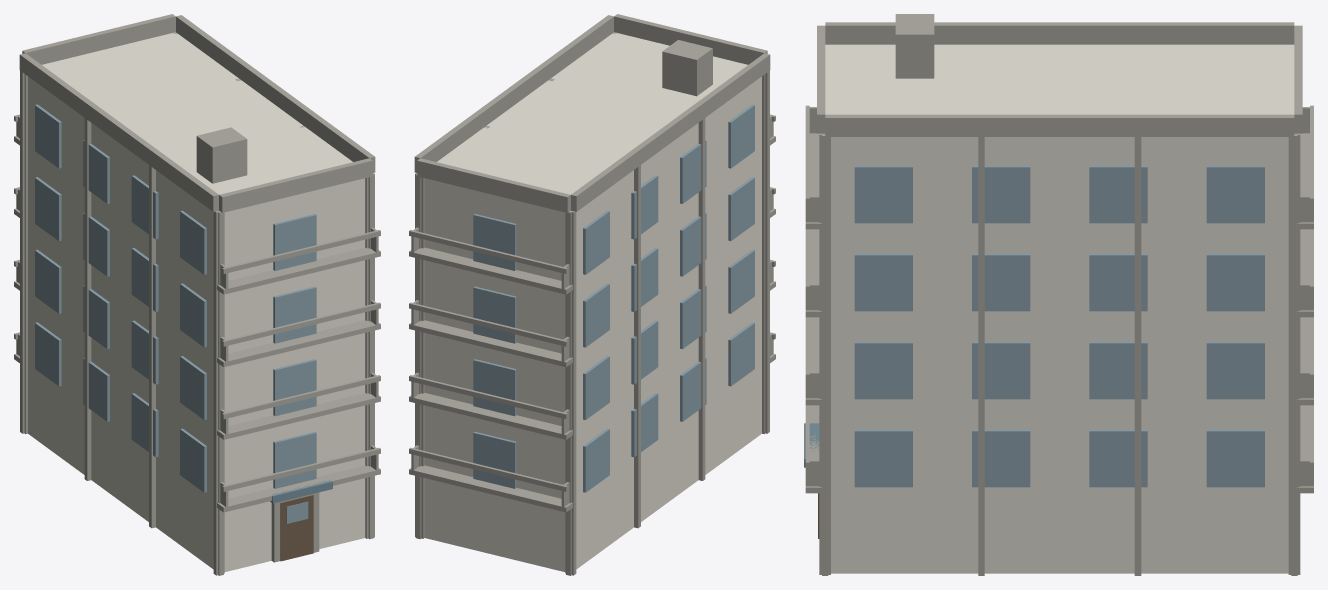
The model's file is residential_1x2_b.glb.
3 renders of one model, left to right at view 1: azimuth 30°, elevation 25°; view 2: azimuth 150°, elevation 25°; view 3: azimuth 270°, elevation 25°, orthographic. The views are drawn at different scales.
Visible parts, largest first — view 1: residential_1x2_b_0; view 2: residential_1x2_b_0; view 3: residential_1x2_b_0.
Part boxes in pixels (<box>): residential_1x2_b_0: <box>14,14,380,575</box>; residential_1x2_b_0: <box>409,14,775,575</box>; residential_1x2_b_0: <box>804,14,1313,575</box>.
Size of the model in its own units: 7 by 16.5 by 15.75.
